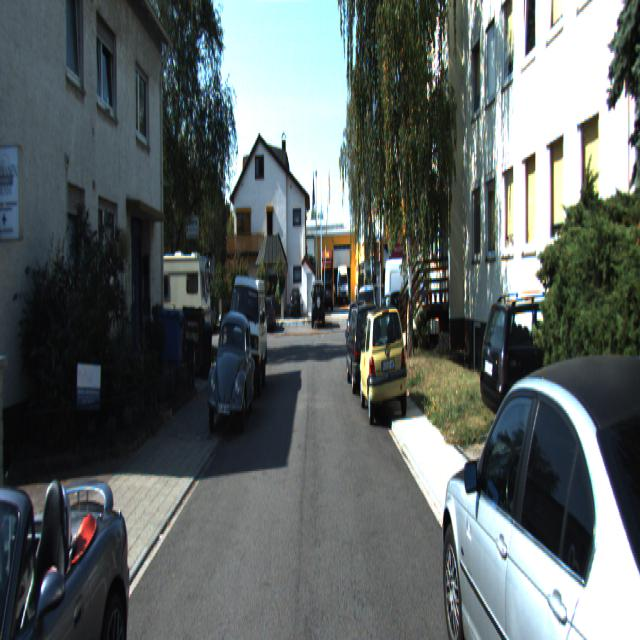Car: (433, 326, 640, 638), (0, 422, 146, 638), (477, 289, 639, 446), (126, 255, 218, 368), (202, 309, 257, 430), (358, 306, 408, 428), (226, 268, 269, 394), (384, 252, 441, 325), (344, 302, 386, 396), (312, 282, 325, 331)
